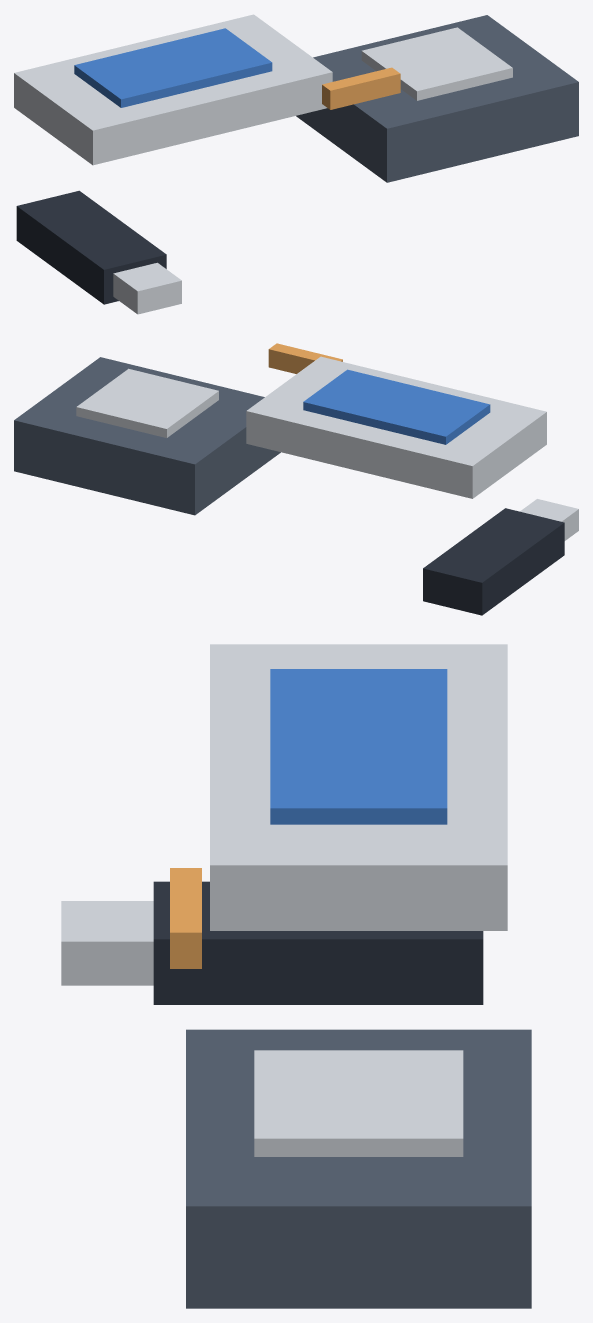
The model's file is storage.glb.
The picture shows the model from 3 angles, top to bottom: view 1: azimuth 30°, elevation 25°; view 2: azimuth 150°, elevation 25°; view 3: azimuth 270°, elevation 25°; orthographic projection. The views are drawn at different scales.
Parts seen in each view (by area): view 1: hard disk body, ssd body, flash drive, ssd label, disk plate, flash connector, ssd connector; view 2: hard disk body, ssd body, flash drive, ssd label, disk plate, ssd connector, flash connector; view 3: hard disk body, ssd body, ssd label, flash drive, disk plate, flash connector, ssd connector.
Part boxes in pixels (left/top/right/bottom): hard disk body: left=296, top=15, right=578, bottom=182; ssd body: left=14, top=14, right=332, bottom=165; flash drive: left=16, top=190, right=166, bottom=304; ssd label: left=74, top=28, right=272, bottom=107; disk plate: left=361, top=27, right=512, bottom=100; flash connector: left=113, top=262, right=181, bottom=314; ssd connector: left=322, top=67, right=400, bottom=109; hard disk body: left=14, top=357, right=280, bottom=515; ssd body: left=246, top=356, right=546, bottom=498; flash drive: left=423, top=508, right=564, bottom=615; ssd label: left=303, top=369, right=490, bottom=444; disk plate: left=76, top=368, right=218, bottom=437; ssd connector: left=268, top=343, right=342, bottom=373; flash connector: left=520, top=499, right=578, bottom=540; hard disk body: left=186, top=1029, right=531, bottom=1308; ssd body: left=210, top=644, right=507, bottom=930; ssd label: left=270, top=669, right=447, bottom=824; flash drive: left=153, top=881, right=483, bottom=1004; disk plate: left=254, top=1050, right=463, bottom=1156; flash connector: left=61, top=901, right=153, bottom=985; ssd connector: left=170, top=868, right=201, bottom=968.
Size of the model in its own units: 2.62 by 0.885 by 1.17.
